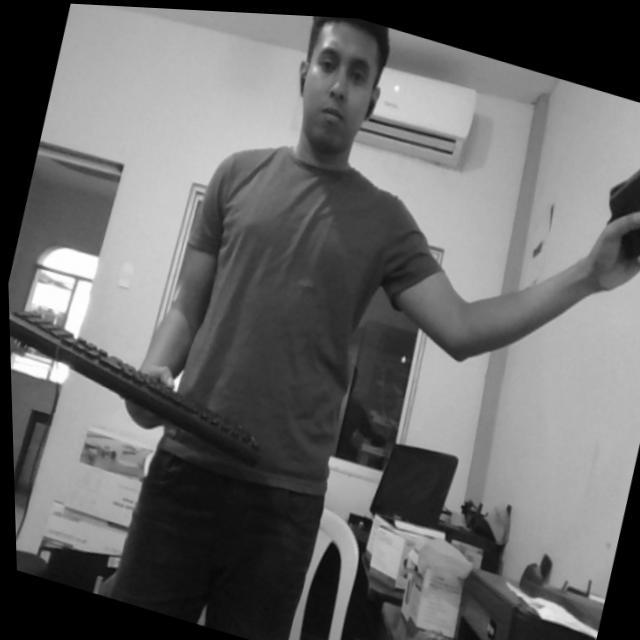weapon: (583, 101, 640, 280)
